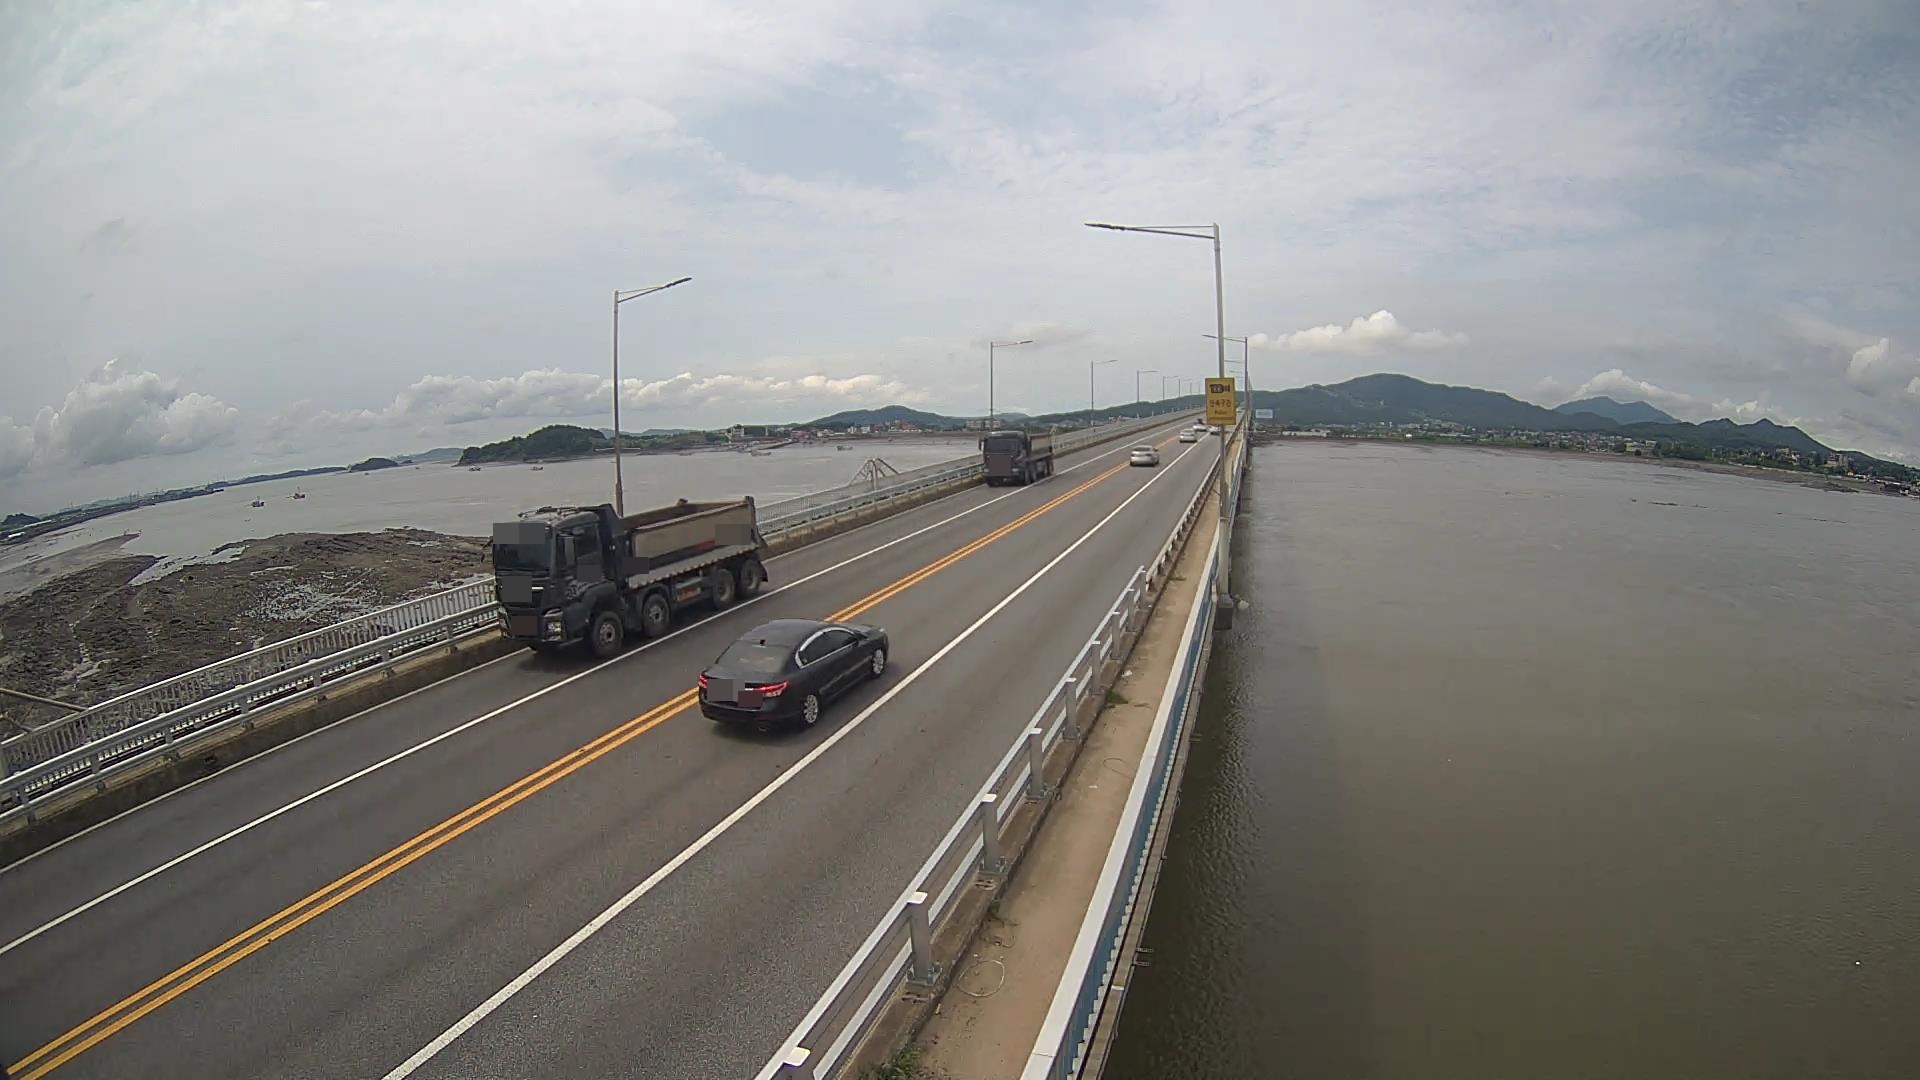정상차량: (481, 496, 767, 657)
